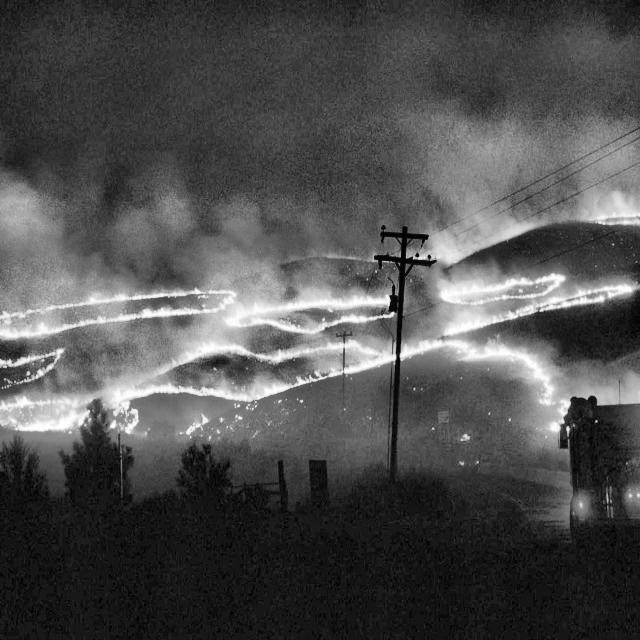fire: (0, 254, 618, 486)
